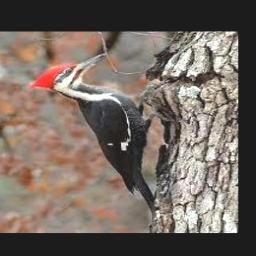Woodpecker: (29, 54, 157, 221)
